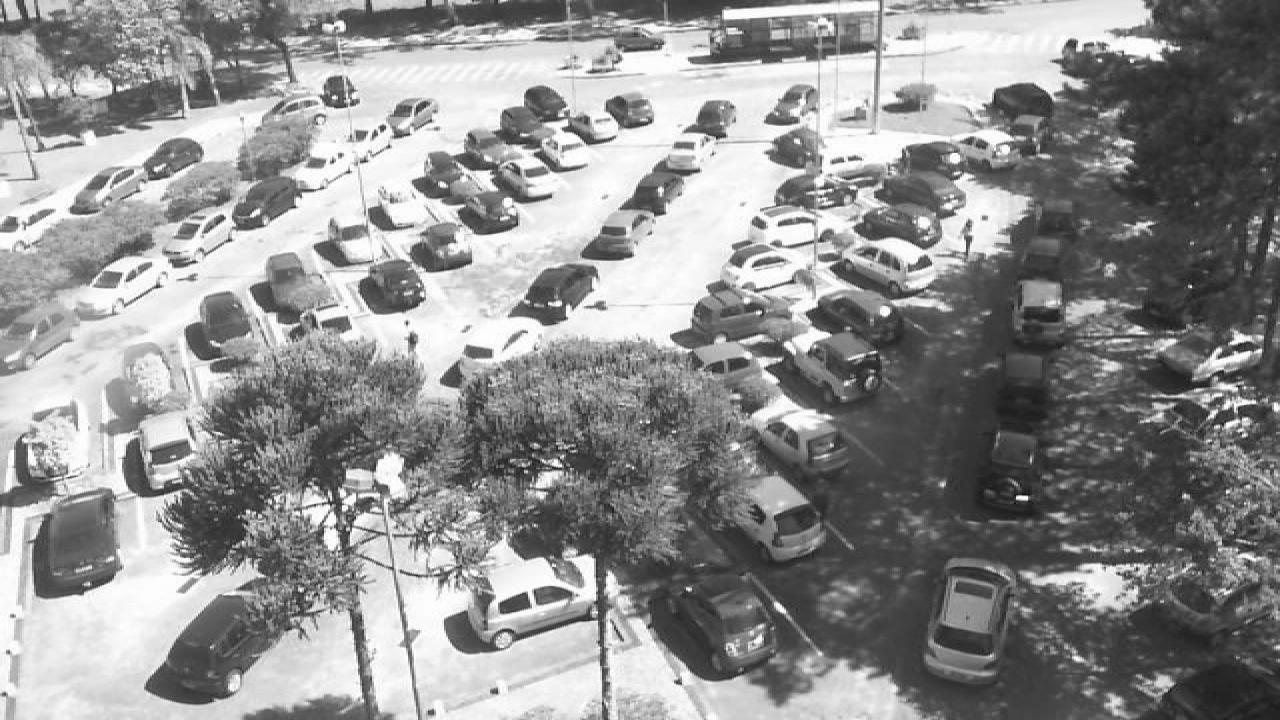Car: (662, 563, 784, 685), (456, 552, 598, 652), (152, 591, 278, 698), (924, 556, 1016, 685), (36, 487, 122, 592), (734, 470, 830, 564), (746, 400, 850, 481), (790, 332, 888, 405), (440, 318, 542, 384), (14, 398, 92, 484), (1150, 325, 1258, 386), (128, 409, 204, 495), (0, 299, 86, 375), (978, 426, 1046, 521), (72, 252, 164, 321), (836, 235, 938, 294), (816, 286, 906, 348), (686, 284, 788, 338), (684, 339, 774, 397), (194, 290, 266, 361), (524, 261, 602, 322), (1138, 276, 1222, 332), (1006, 279, 1072, 350), (160, 209, 236, 269), (716, 242, 802, 294), (882, 166, 968, 218), (122, 340, 184, 411), (858, 198, 946, 248), (998, 351, 1058, 423), (228, 174, 302, 229), (736, 202, 820, 248), (586, 208, 660, 260), (64, 165, 142, 214), (364, 256, 426, 314), (778, 173, 860, 214), (944, 129, 1026, 169), (294, 301, 358, 351), (622, 170, 688, 217), (814, 151, 900, 187), (988, 78, 1058, 122), (136, 136, 206, 180), (0, 202, 62, 251), (260, 252, 312, 310), (452, 191, 520, 234), (368, 184, 430, 231), (416, 221, 474, 271), (492, 161, 556, 205), (374, 96, 440, 137), (316, 219, 372, 266), (662, 132, 720, 176), (768, 128, 828, 170), (1014, 234, 1066, 280), (764, 83, 820, 125), (562, 105, 622, 144), (314, 112, 380, 146), (260, 93, 330, 125), (528, 135, 590, 171), (1002, 110, 1048, 158), (1024, 198, 1084, 234), (462, 127, 512, 170), (498, 108, 554, 144), (688, 98, 738, 138), (604, 90, 656, 128), (522, 84, 572, 121), (320, 73, 360, 110), (610, 26, 668, 50)
